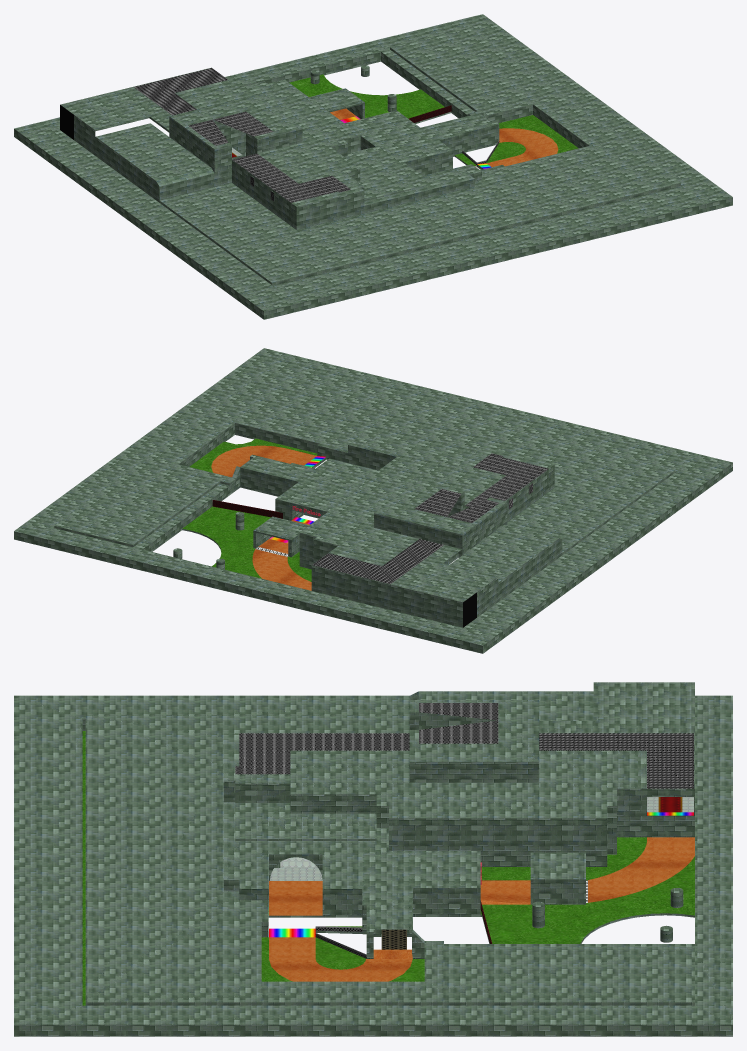
The picture shows the model from 3 angles, top to bottom: view 1: azimuth 30°, elevation 25°; view 2: azimuth 150°, elevation 25°; view 3: azimuth 270°, elevation 25°; orthographic projection. The views are drawn at different scales.
Visible parts, largest first — view 1: FPModel-SKP--Wand000C, FPModel-SKP--Gras0083, FPModel-SKP--Zaun004C, FPModel-SKP--Gitter004C, FPModel-SKP--Auen0040; view 2: FPModel-SKP--Wand000C, FPModel-SKP--Gras0083, FPModel-SKP--Auen0040, FPModel-SKP--Zaun004C, FPModel-SKP--Gitter004C, FPModel-SKP--RoterZaun; view 3: FPModel-SKP--Wand000C, FPModel-SKP--Gras0083, FPModel-SKP--Auen0040, FPModel-SKP--Zaun004C, FPModel-SKP--Gitter004C, FPModel-SKP--Boden0076, FPModel-SKP--Rainbowboost, FPModel-SKP--Eingang.
Part boxes in pixels (x1,y1,x2,y2): FPModel-SKP--Wand000C: [14, 14, 732, 319]; FPModel-SKP--Gras0083: [289, 74, 578, 165]; FPModel-SKP--Zaun004C: [188, 111, 499, 202]; FPModel-SKP--Gitter004C: [134, 68, 274, 201]; FPModel-SKP--Auen0040: [330, 108, 558, 166]; FPModel-SKP--Wand000C: [14, 348, 732, 653]; FPModel-SKP--Gras0083: [182, 438, 317, 581]; FPModel-SKP--Auen0040: [211, 445, 316, 590]; FPModel-SKP--Zaun004C: [300, 453, 548, 522]; FPModel-SKP--Gitter004C: [312, 483, 532, 584]; FPModel-SKP--RoterZaun: [212, 500, 282, 518]; FPModel-SKP--Wand000C: [14, 682, 732, 1036]; FPModel-SKP--Gras0083: [82, 731, 694, 1005]; FPModel-SKP--Auen0040: [269, 837, 694, 981]; FPModel-SKP--Zaun004C: [235, 703, 498, 958]; FPModel-SKP--Gitter004C: [539, 733, 693, 788]; FPModel-SKP--Boden0076: [280, 797, 693, 867]; FPModel-SKP--Rainbowboost: [269, 812, 693, 937]; FPModel-SKP--Eingang: [270, 868, 322, 880].
Size of what is drawn, in the model's own units: 88024 by 11618 by 81315.
20 materials, 20 textured.
